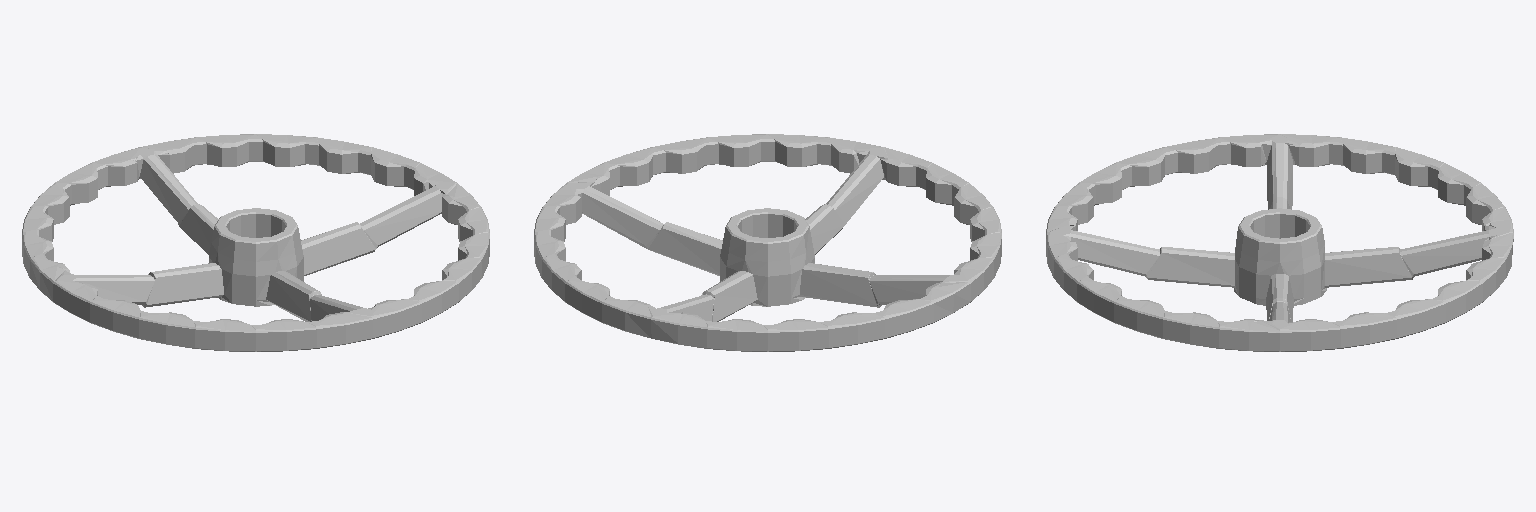
Rendered from wheelbase.obj.
3 renders of one model, left to right at view 1: azimuth 30°, elevation 25°; view 2: azimuth 150°, elevation 25°; view 3: azimuth 270°, elevation 25°, orthographic.
Parts seen in each view (by area): view 1: ____; view 2: ____; view 3: ____.
Part boxes in pixels (bbox=[...]): ____: bbox=[22, 134, 489, 351]; ____: bbox=[534, 134, 1001, 351]; ____: bbox=[1046, 134, 1513, 351].
Bounding box in the file's own units: 45.42 × 6.6 × 45.42.